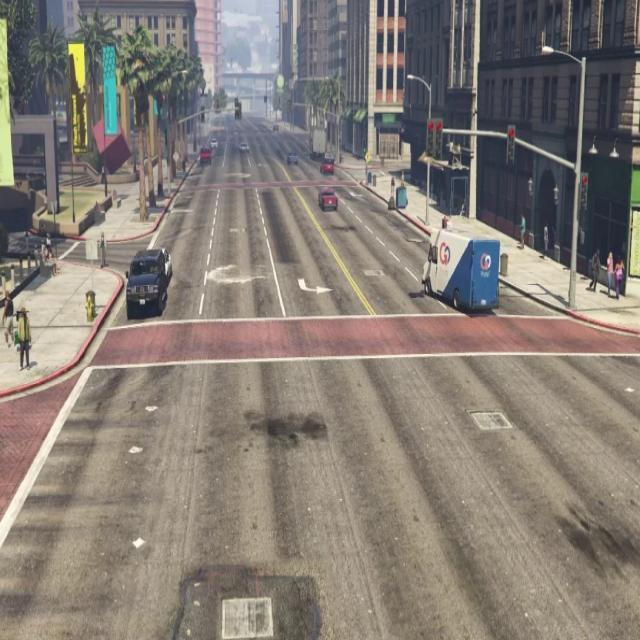Red-Signal: (419, 105, 453, 176), (498, 118, 524, 174), (576, 167, 594, 226)
